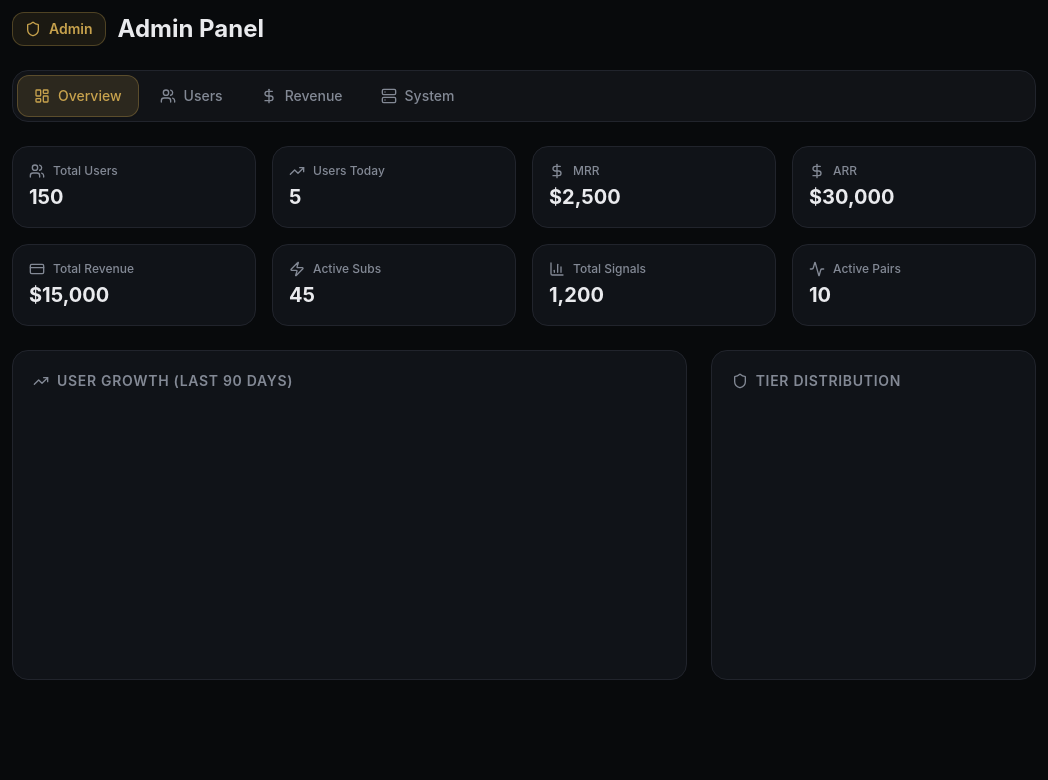
Admin Panel - Tab Navigation › clicking Users tab switches content
Click the button "Users" at point(191, 96), box left=142, top=75, right=240, bottom=117
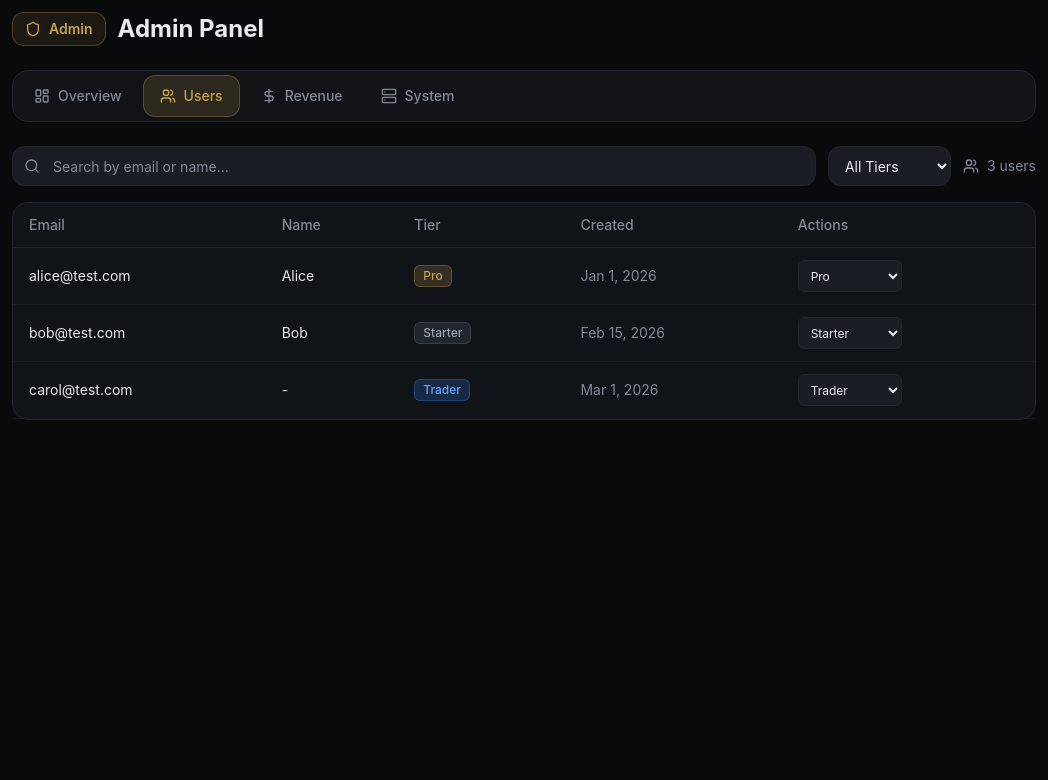
Expected: the field with placeholder "Search by email or name..." is shown, left=12, top=146, right=816, bottom=186
